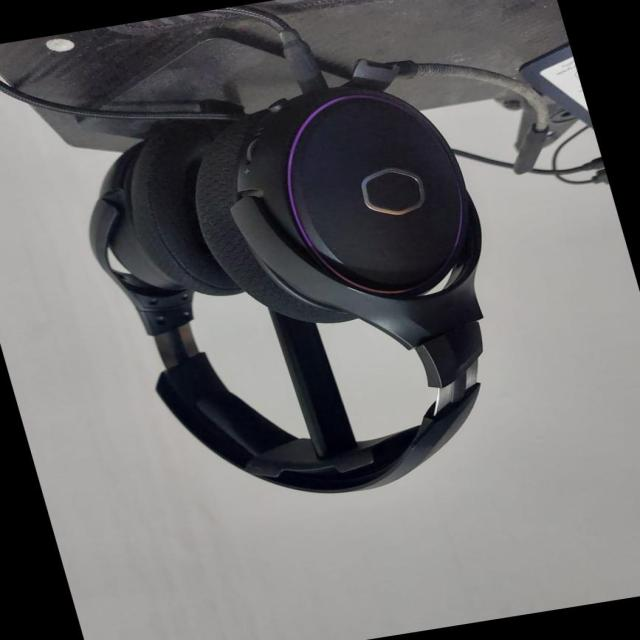earphone: (42, 46, 514, 533)
